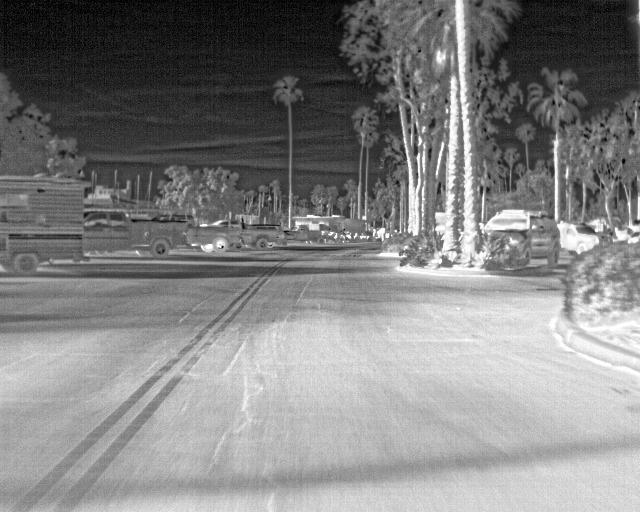car: (81, 207, 187, 259), (485, 207, 561, 266), (152, 212, 231, 251), (200, 216, 282, 248), (559, 221, 599, 253)
